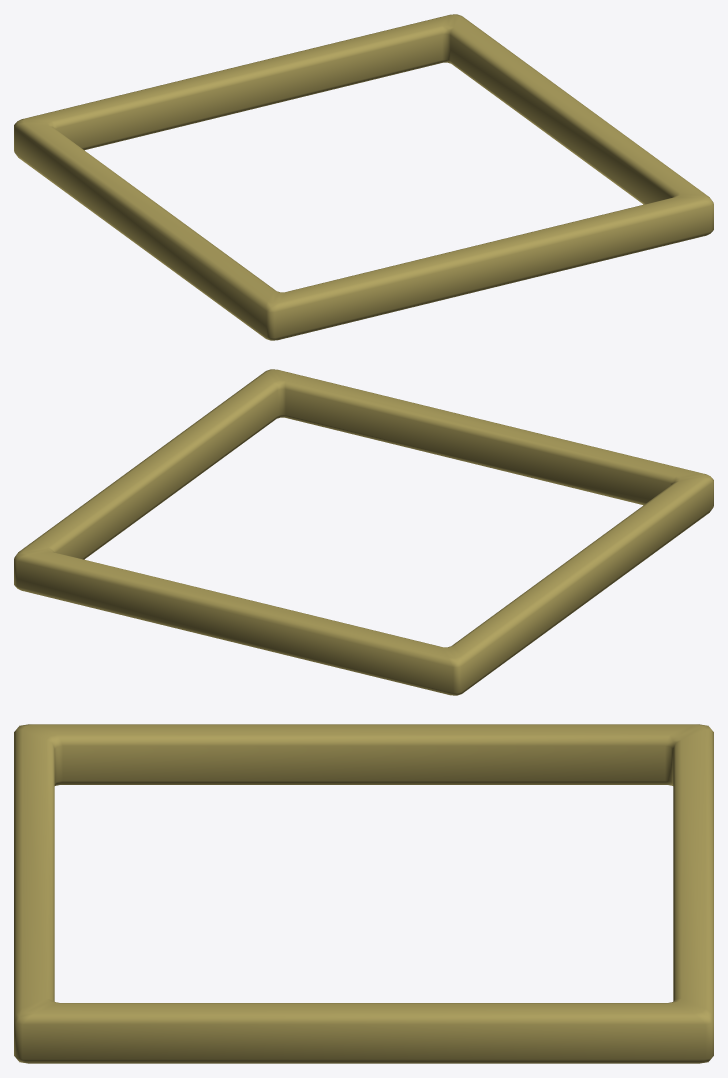
The model's file is FM_H_Doll_Arch_Border_02_001.fbx.
3 renders of one model, top to bottom at view 1: azimuth 30°, elevation 25°; view 2: azimuth 150°, elevation 25°; view 3: azimuth 270°, elevation 25°, orthographic. The views are drawn at different scales.
Visible parts, largest first — view 1: H_Doll_Arch_Border_02_001; view 2: H_Doll_Arch_Border_02_001; view 3: H_Doll_Arch_Border_02_001.
Boxes of the visible parts, x1=… form: H_Doll_Arch_Border_02_001: x1=14, y1=14, x2=713, y2=340; H_Doll_Arch_Border_02_001: x1=14, y1=369, x2=713, y2=695; H_Doll_Arch_Border_02_001: x1=14, y1=724, x2=713, y2=1063.
Size of the model in its own units: 4.52 by 0.3547 by 4.52.
